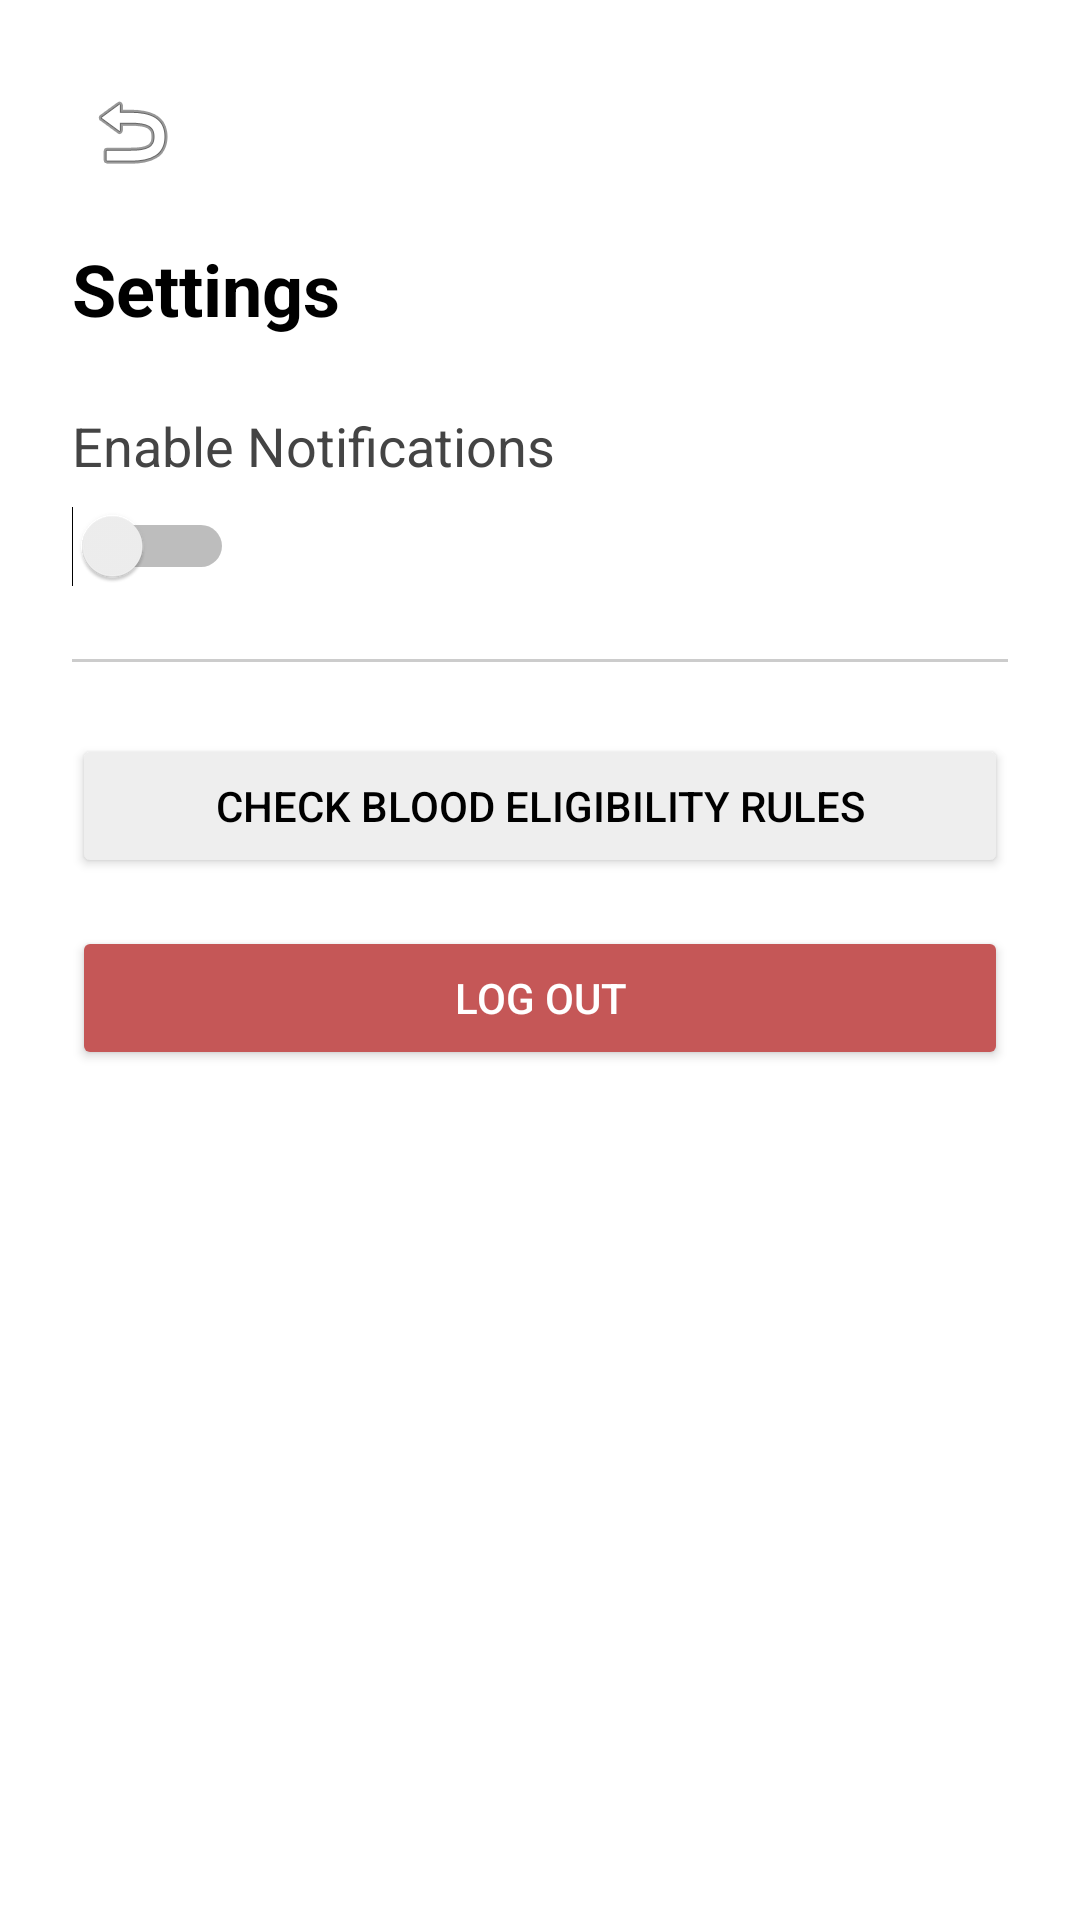

Icon click points for this 1080x1920 phone screenshot, format point (x, y):
Back: point (133, 132)
